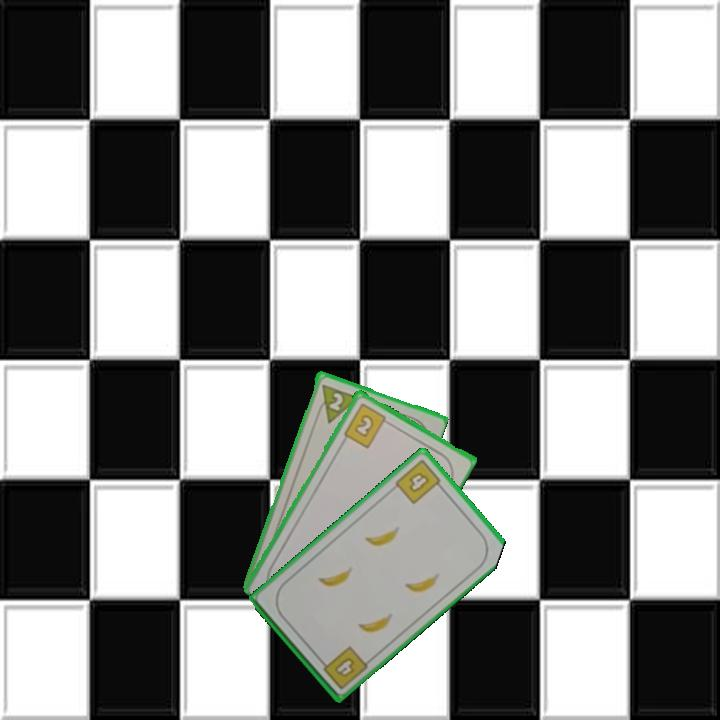2b: (340, 399, 393, 450)
2p: (311, 380, 360, 426)
4b: (391, 456, 447, 507), (315, 642, 371, 692)
